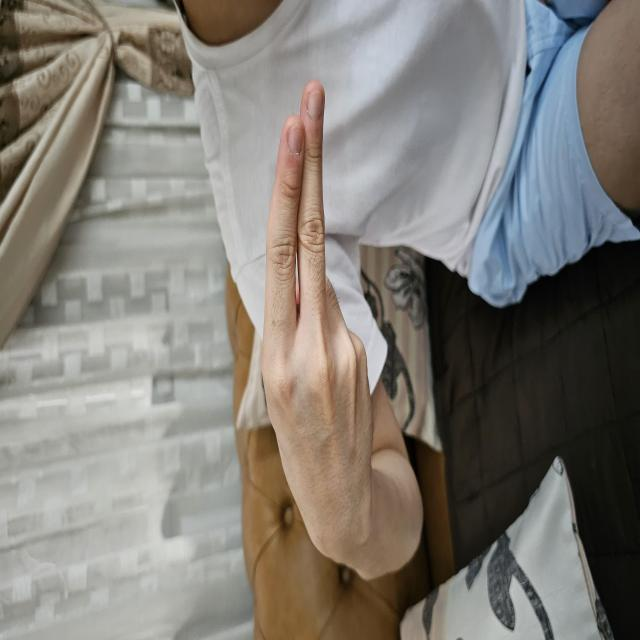H: (78, 260, 563, 375)
